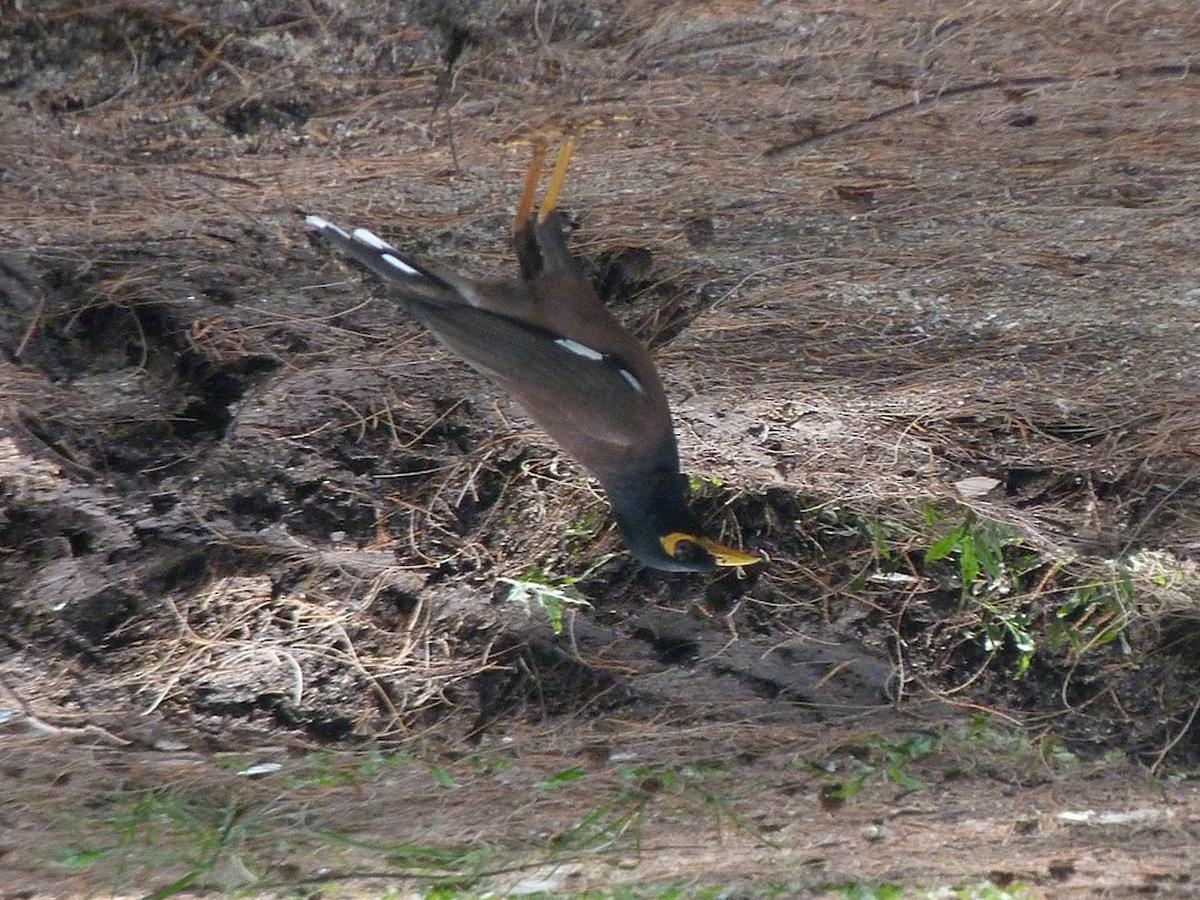myna: (349, 174, 803, 608)
